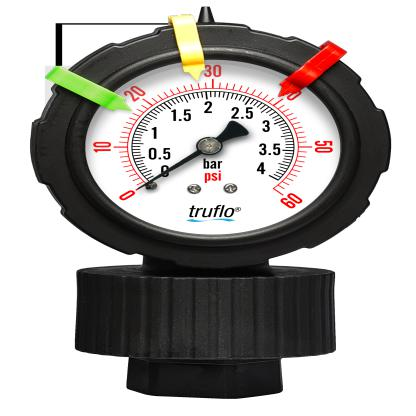needle: (135, 150, 203, 191)
